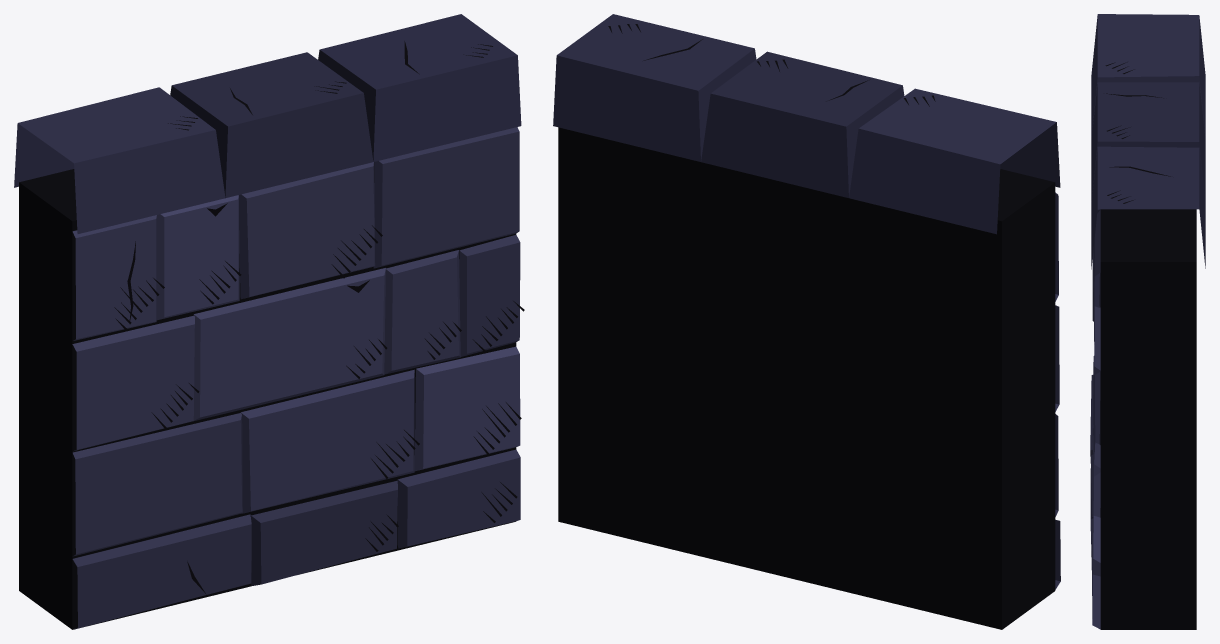
File: wall.glb
3 views of the same model, side by side, from view 1: azimuth 30°, elevation 25°; view 2: azimuth 150°, elevation 25°; view 3: azimuth 270°, elevation 25° (orthographic). The views are drawn at different scales.
Parts seen in each view (by area): view 1: wall.001; view 2: wall.001; view 3: wall.001.
Part boxes in pixels (box(x1,y1,x2,y2)): wall.001: box(14, 14, 524, 629); wall.001: box(553, 14, 1060, 629); wall.001: box(1090, 14, 1205, 629).
Bounding box in the file's own units: 4 × 4 × 1.
